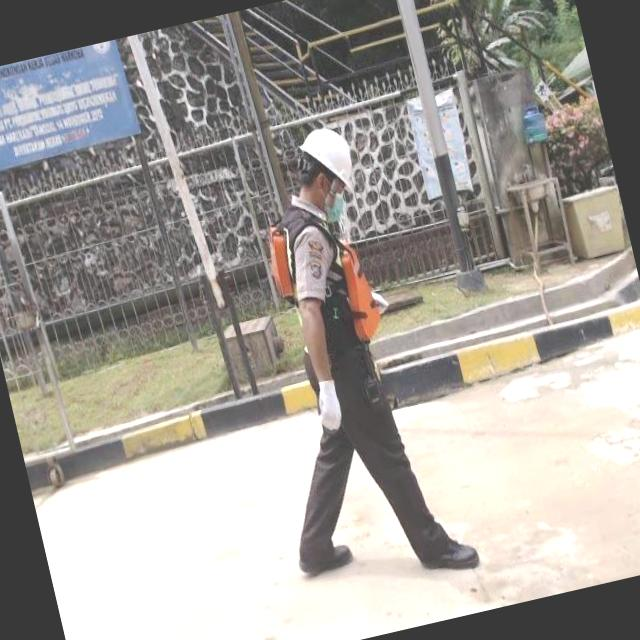vest: (260, 199, 394, 372)
